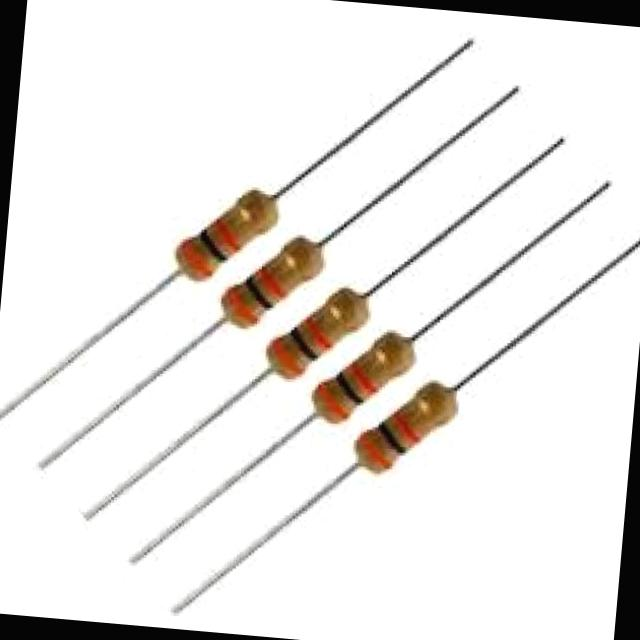Resistor: (342, 369, 466, 488), (300, 322, 428, 437), (167, 178, 289, 294), (260, 277, 378, 388), (215, 225, 328, 338)
black: (199, 229, 228, 263)
gold: (240, 196, 270, 232)
red: (180, 239, 213, 275), (210, 218, 242, 253)
